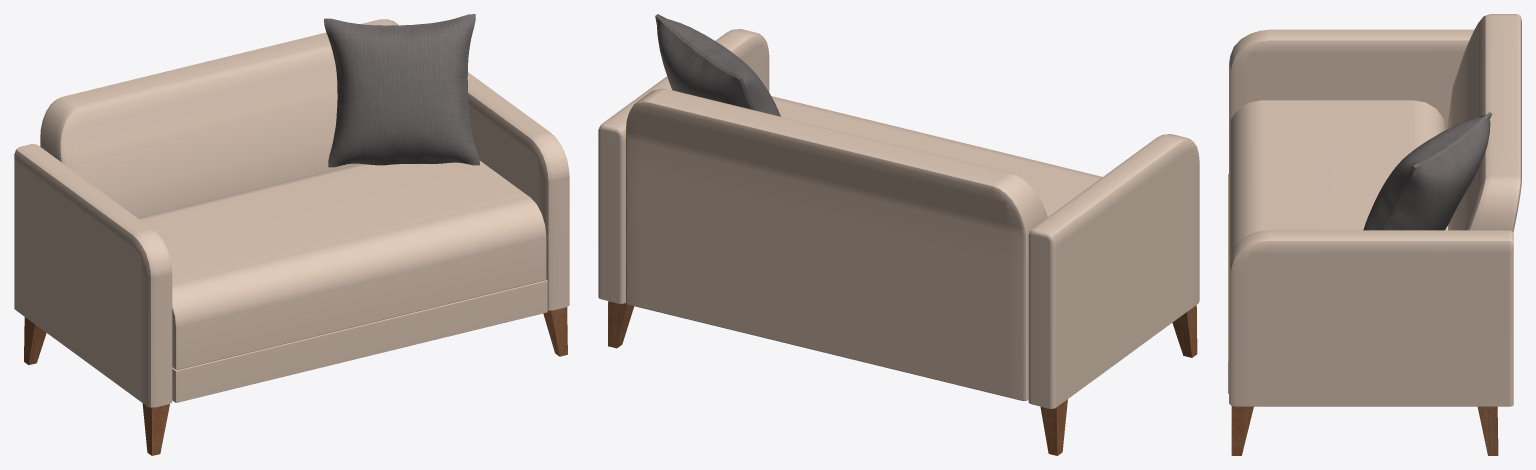
The picture shows the model from 3 angles, left to right: view 1: azimuth 30°, elevation 25°; view 2: azimuth 150°, elevation 25°; view 3: azimuth 270°, elevation 25°; orthographic projection. The views are drawn at different scales.
Parts seen in each view (by area): view 1: pasted__pasted__pasted__polySurface2; view 2: pasted__pasted__pasted__polySurface2; view 3: pasted__pasted__pasted__polySurface2.
Boxes of the visible parts, box(x1,y1,x2,y2) form: pasted__pasted__pasted__polySurface2: box(14, 14, 569, 455); pasted__pasted__pasted__polySurface2: box(598, 14, 1199, 455); pasted__pasted__pasted__polySurface2: box(1228, 14, 1521, 455).
Bounding box in the file's own units: 1.37 × 0.861 × 0.7971.
4 materials, 4 textured.
